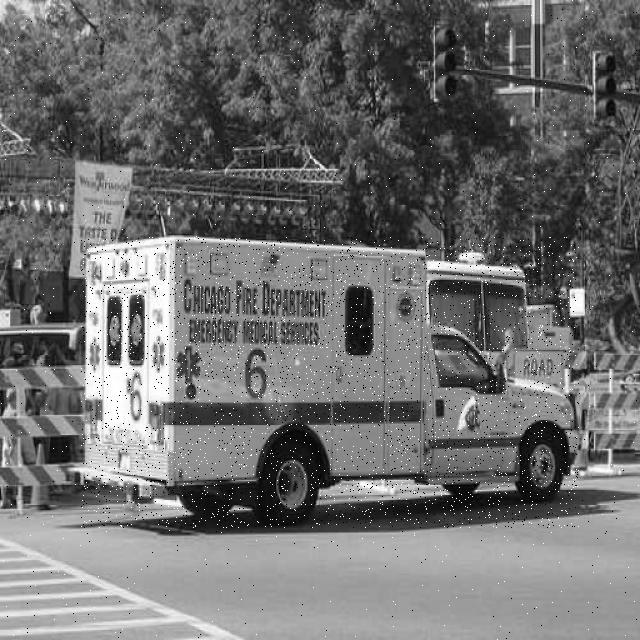Ambulance: (81, 237, 579, 528)
